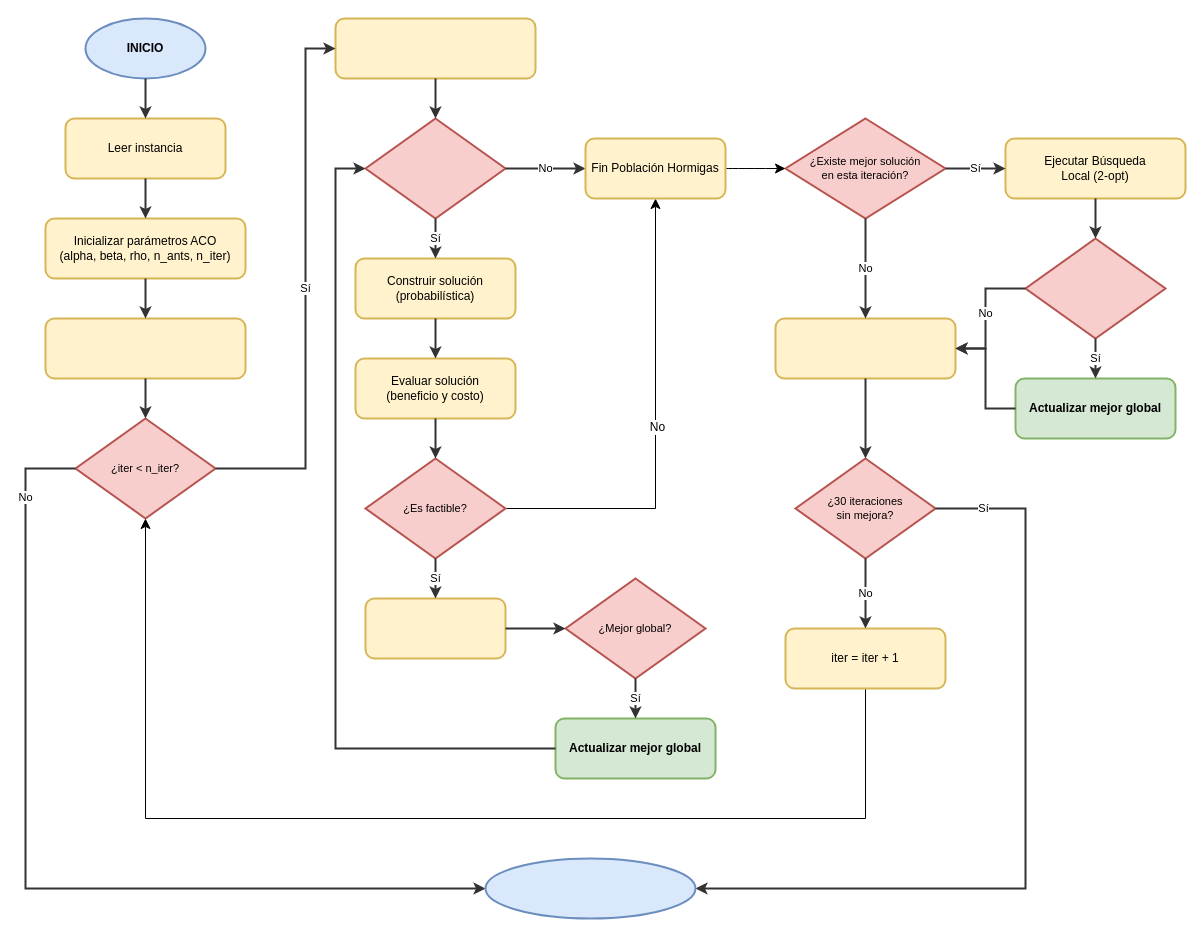
The diagram is 1203 pixels wide and 936 high, and some of its shapes have lost their labels. The centre of each missing label's shape, as x and y in pixels:
"Actualizar feromonas (Evaporación + Depósito MMAS)" goes at (x=865, y=348).
"Crear lista vacía de soluciones" goes at (x=435, y=48).
"FIN (RETORNAR mejor solución)" goes at (x=590, y=888).
"Guardar solución" goes at (x=435, y=628).
"Inicializar feromonas con Greedy Estocástico" goes at (x=145, y=348).
"¿Mejoró el óptimo global?" goes at (x=1095, y=288).
"¿Quedan hormigas?" goes at (x=435, y=168).
